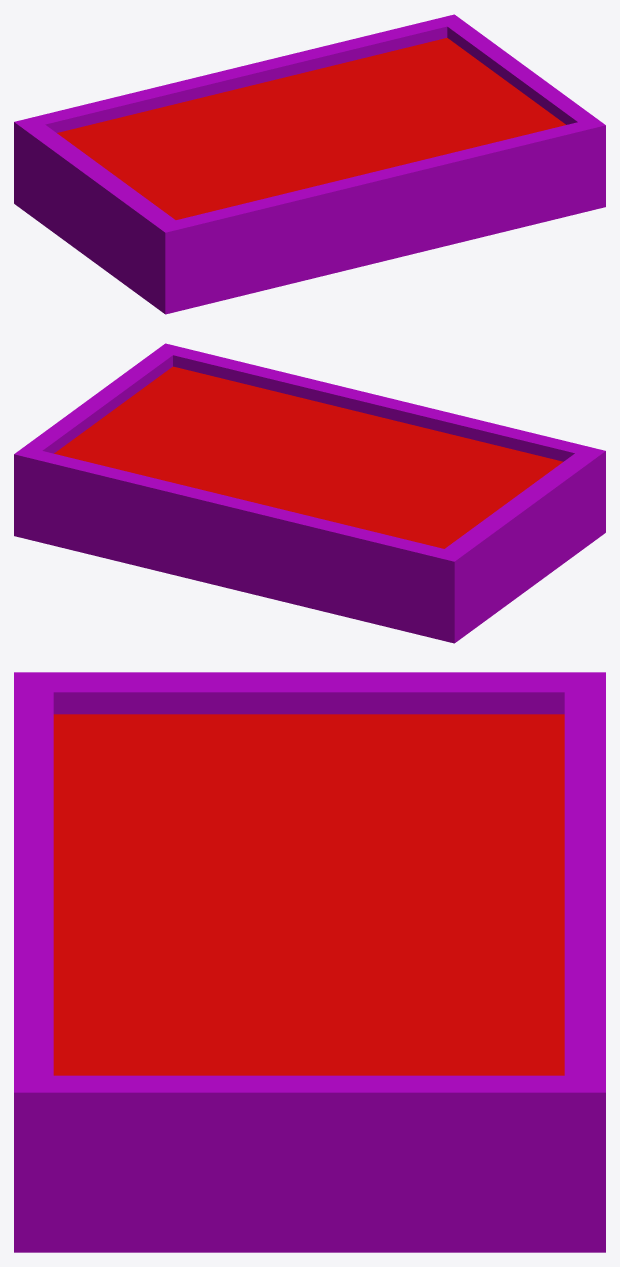
The model's file is lava pit.fbx.
3 views of the same model, one above another, from view 1: azimuth 30°, elevation 25°; view 2: azimuth 150°, elevation 25°; view 3: azimuth 270°, elevation 25° (orthographic). The views are drawn at different scales.
Visible parts, largest first — view 1: Cube; view 2: Cube; view 3: Cube.
Part boxes in pixels (left/top/right/bottom): Cube: left=14, top=14, right=605, bottom=314; Cube: left=14, top=343, right=605, bottom=643; Cube: left=14, top=672, right=605, bottom=1252.
Size of the model in its own units: 336 by 59.59 by 200.
